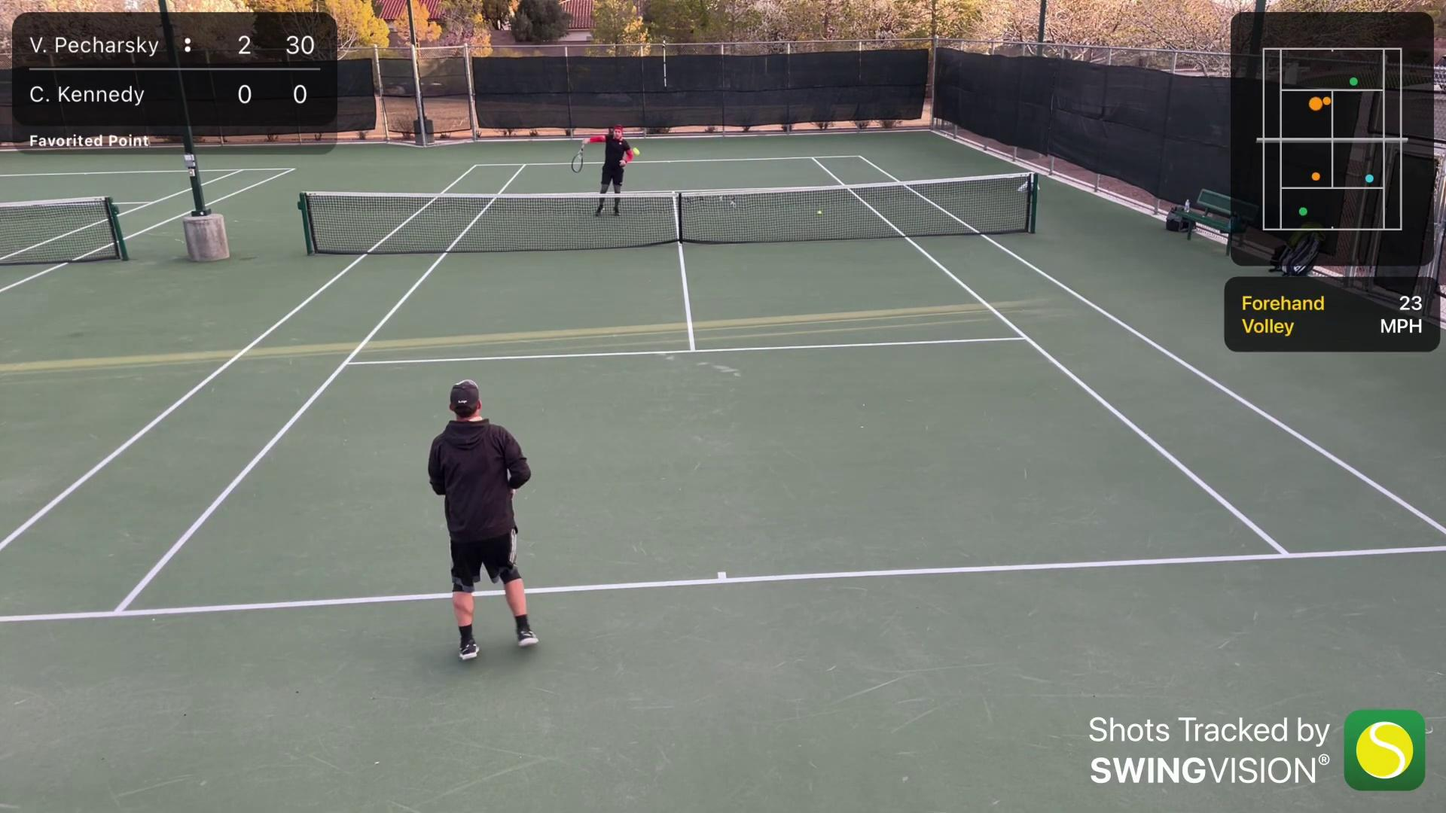ball: (631, 148, 641, 155), (817, 210, 823, 215)
